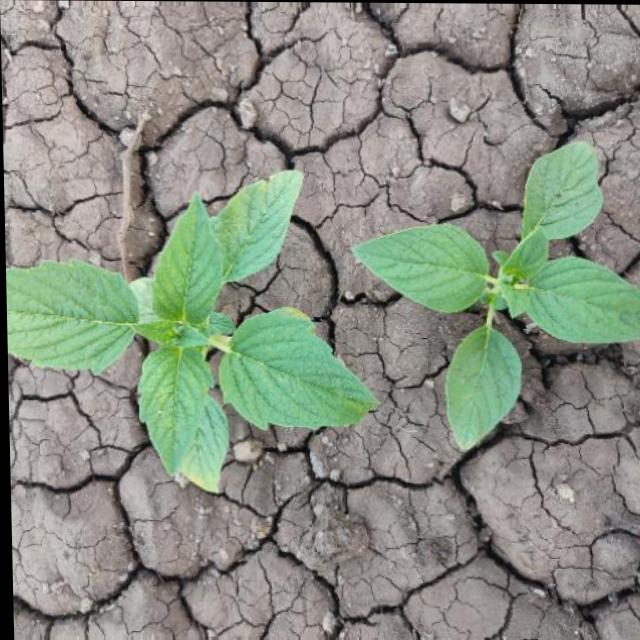crop: (3, 115, 394, 511), (337, 127, 640, 463)
